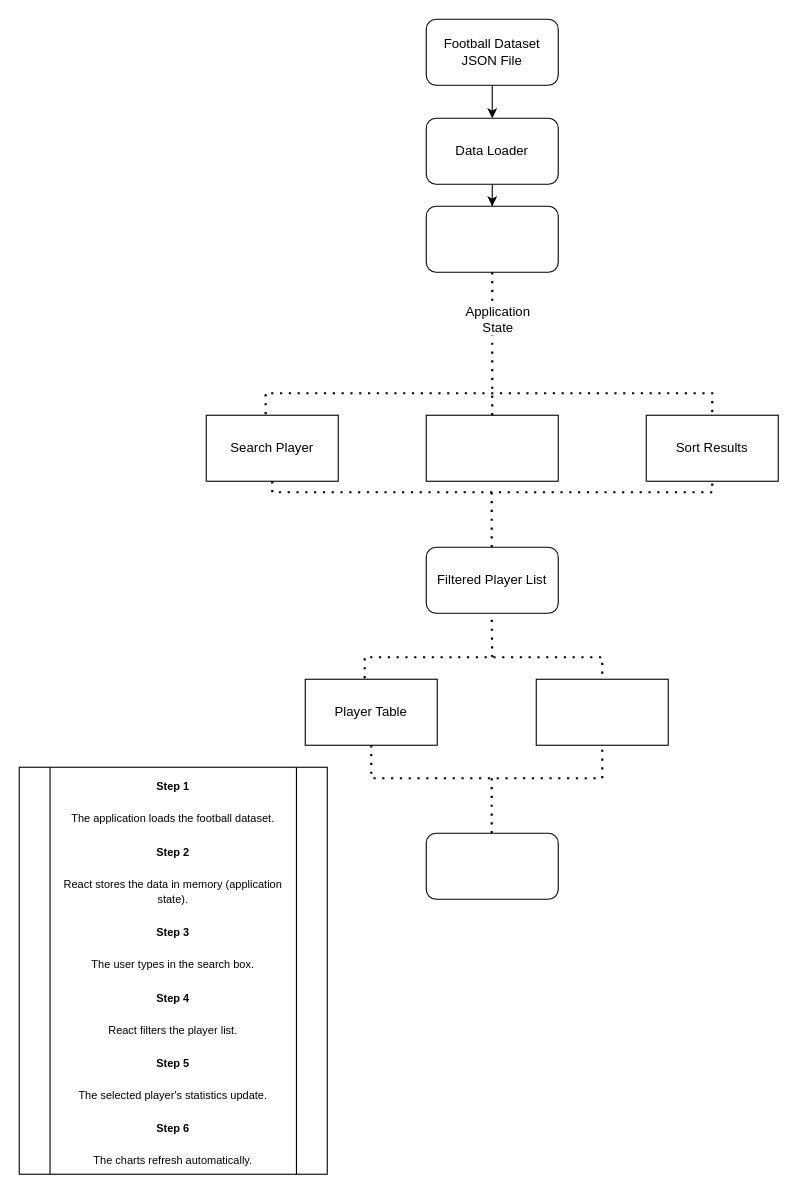
This 798x1200 diagram has some shape labels left out. Each missing label, with the box of its shape:
Apply Filter: (425, 414, 558, 481)
Chart Components: (535, 678, 668, 745)
React Application: (425, 205, 558, 272)
User Dashboard: (425, 832, 558, 899)
